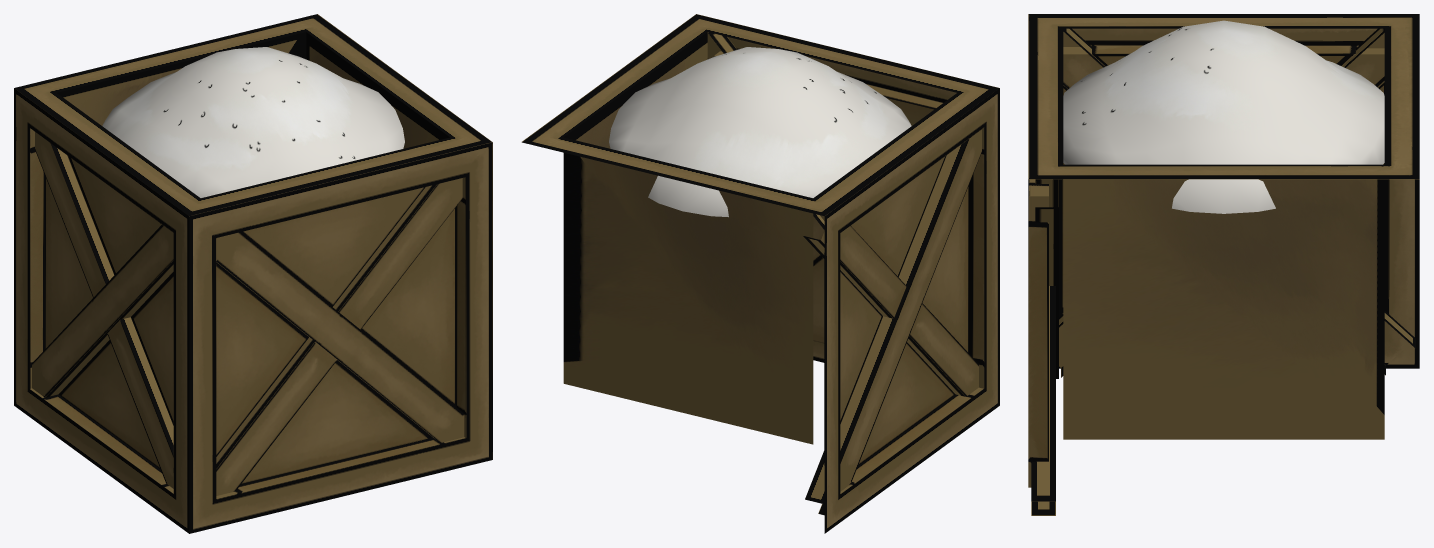
Rendered from saltcrate.fbx.
3 renders of one model, left to right at view 1: azimuth 30°, elevation 25°; view 2: azimuth 150°, elevation 25°; view 3: azimuth 270°, elevation 25°, orthographic. The views are drawn at different scales.
Parts seen in each view (by area): view 1: polySurface3 (×3), pPlane1, polySurface1 (×2), polySurface2 (×2); view 2: polySurface3 (×3), pPlane1, polySurface2, polySurface1 (×2); view 3: polySurface3 (×3), pPlane1, polySurface2 (×2), polySurface1 (×2).
Part boxes in pixels (bbox=[...]): polySurface3 (×3): bbox=[14, 14, 492, 533]; pPlane1: bbox=[102, 47, 404, 197]; polySurface1 (×2): bbox=[35, 132, 462, 495]; polySurface2 (×2): bbox=[32, 225, 464, 442]; polySurface3 (×3): bbox=[521, 14, 999, 533]; pPlane1: bbox=[609, 47, 911, 217]; polySurface2: bbox=[805, 129, 981, 515]; polySurface1 (×2): bbox=[707, 32, 978, 396]; polySurface3 (×3): bbox=[1028, 14, 1419, 487]; pPlane1: bbox=[1063, 20, 1384, 213]; polySurface2 (×2): bbox=[1031, 28, 1415, 515]; polySurface1 (×2): bbox=[1035, 28, 1384, 378].
Size of the model in its own units: 1.47 by 1.74 by 1.47.
Materials: 5 (5 with a texture image).
